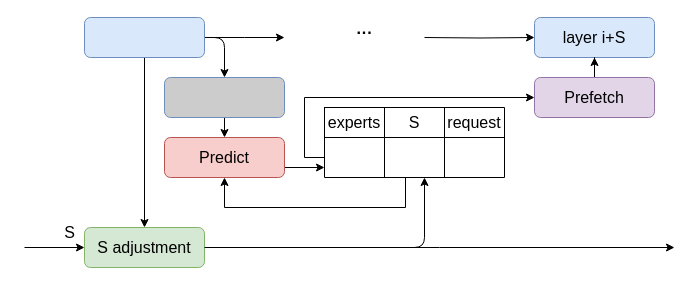
This 700x285 diagram has some shape labels left out. Here are the shapes that lost their labels. From the top down, the centre of each, then its label:
At point 144,37: "layer i".
At point 224,97: "pregate".
